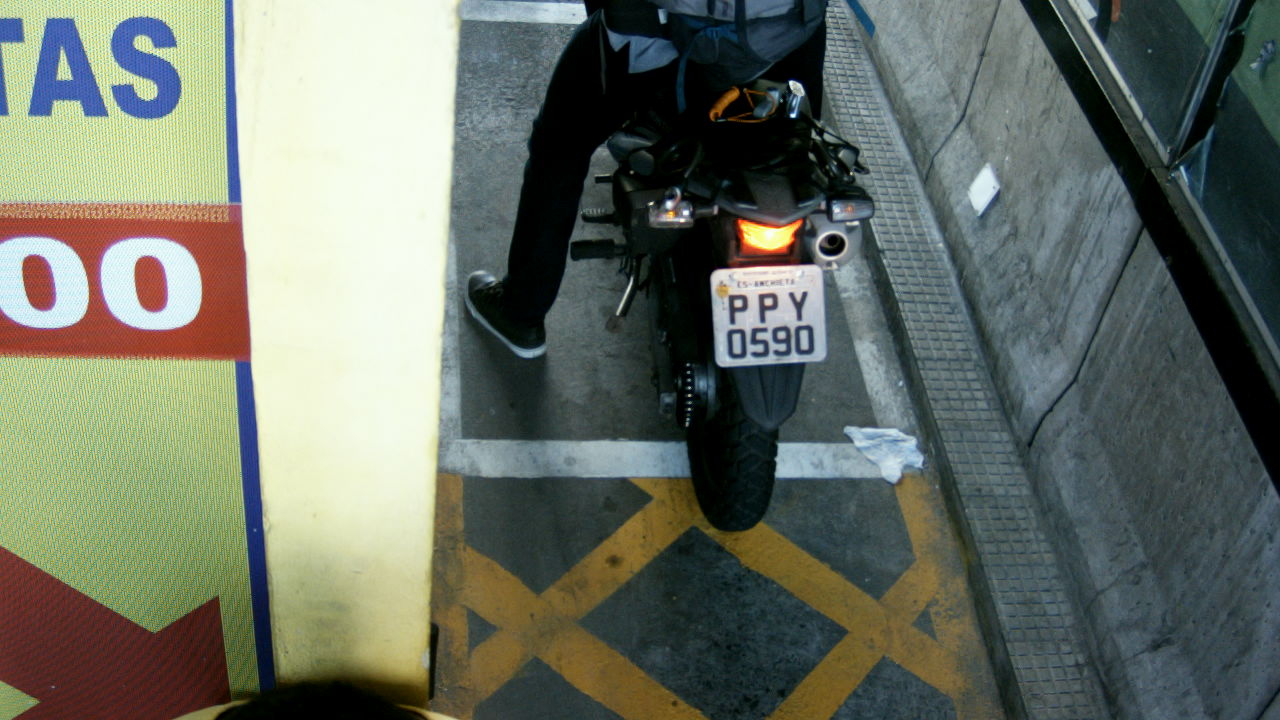placa: (709, 263, 829, 369)
